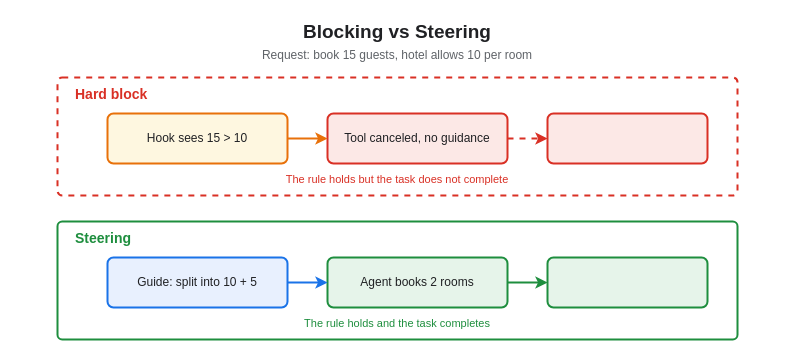
Some shapes in this 794 by 357 pixel diagram are drawn without their labels. Each missing label, with the centre of its shape:
15 guests placed: (627,282)
Booking never happens: (627,138)
